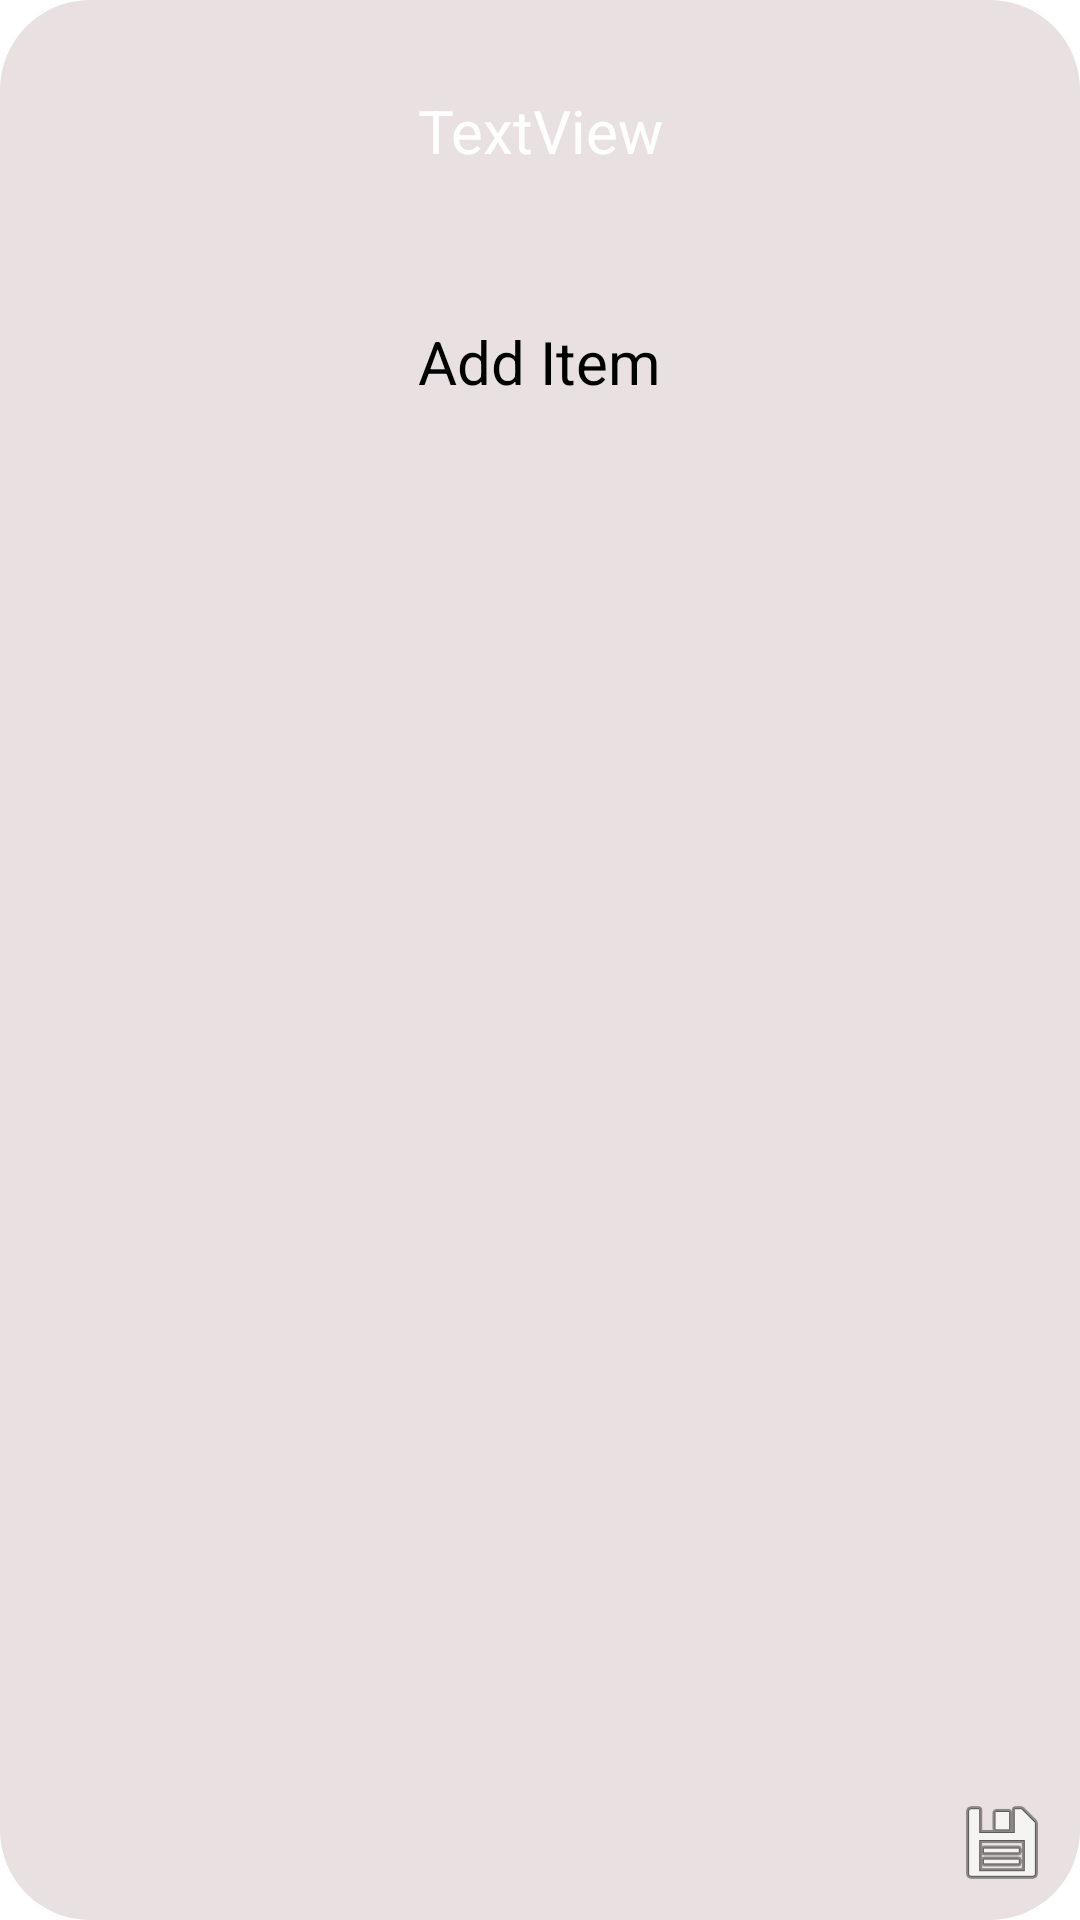

Icon click points for this 1080x1920 phone screenshot, format (x,y):
save: (1002,1842)
